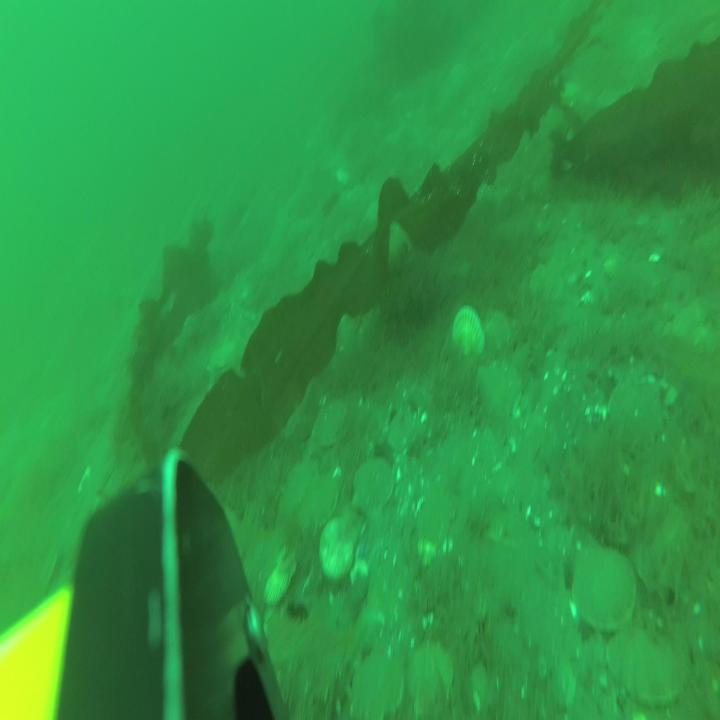scallop: (606, 616, 686, 704), (572, 539, 632, 636), (609, 377, 662, 462), (410, 631, 454, 720), (353, 644, 401, 720), (351, 455, 393, 522), (480, 361, 520, 429), (320, 511, 357, 584), (279, 457, 319, 522), (298, 476, 340, 531), (264, 552, 295, 614), (387, 406, 421, 460), (480, 307, 509, 367), (452, 307, 484, 359), (530, 264, 564, 308), (314, 401, 346, 447)
